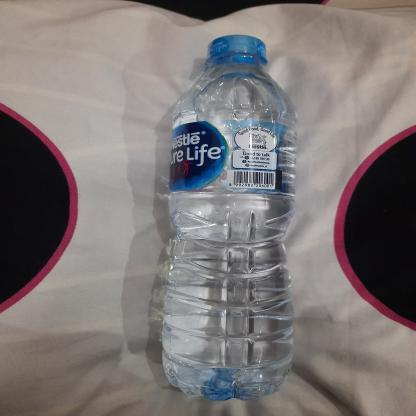bottle: (154, 35, 302, 404)
